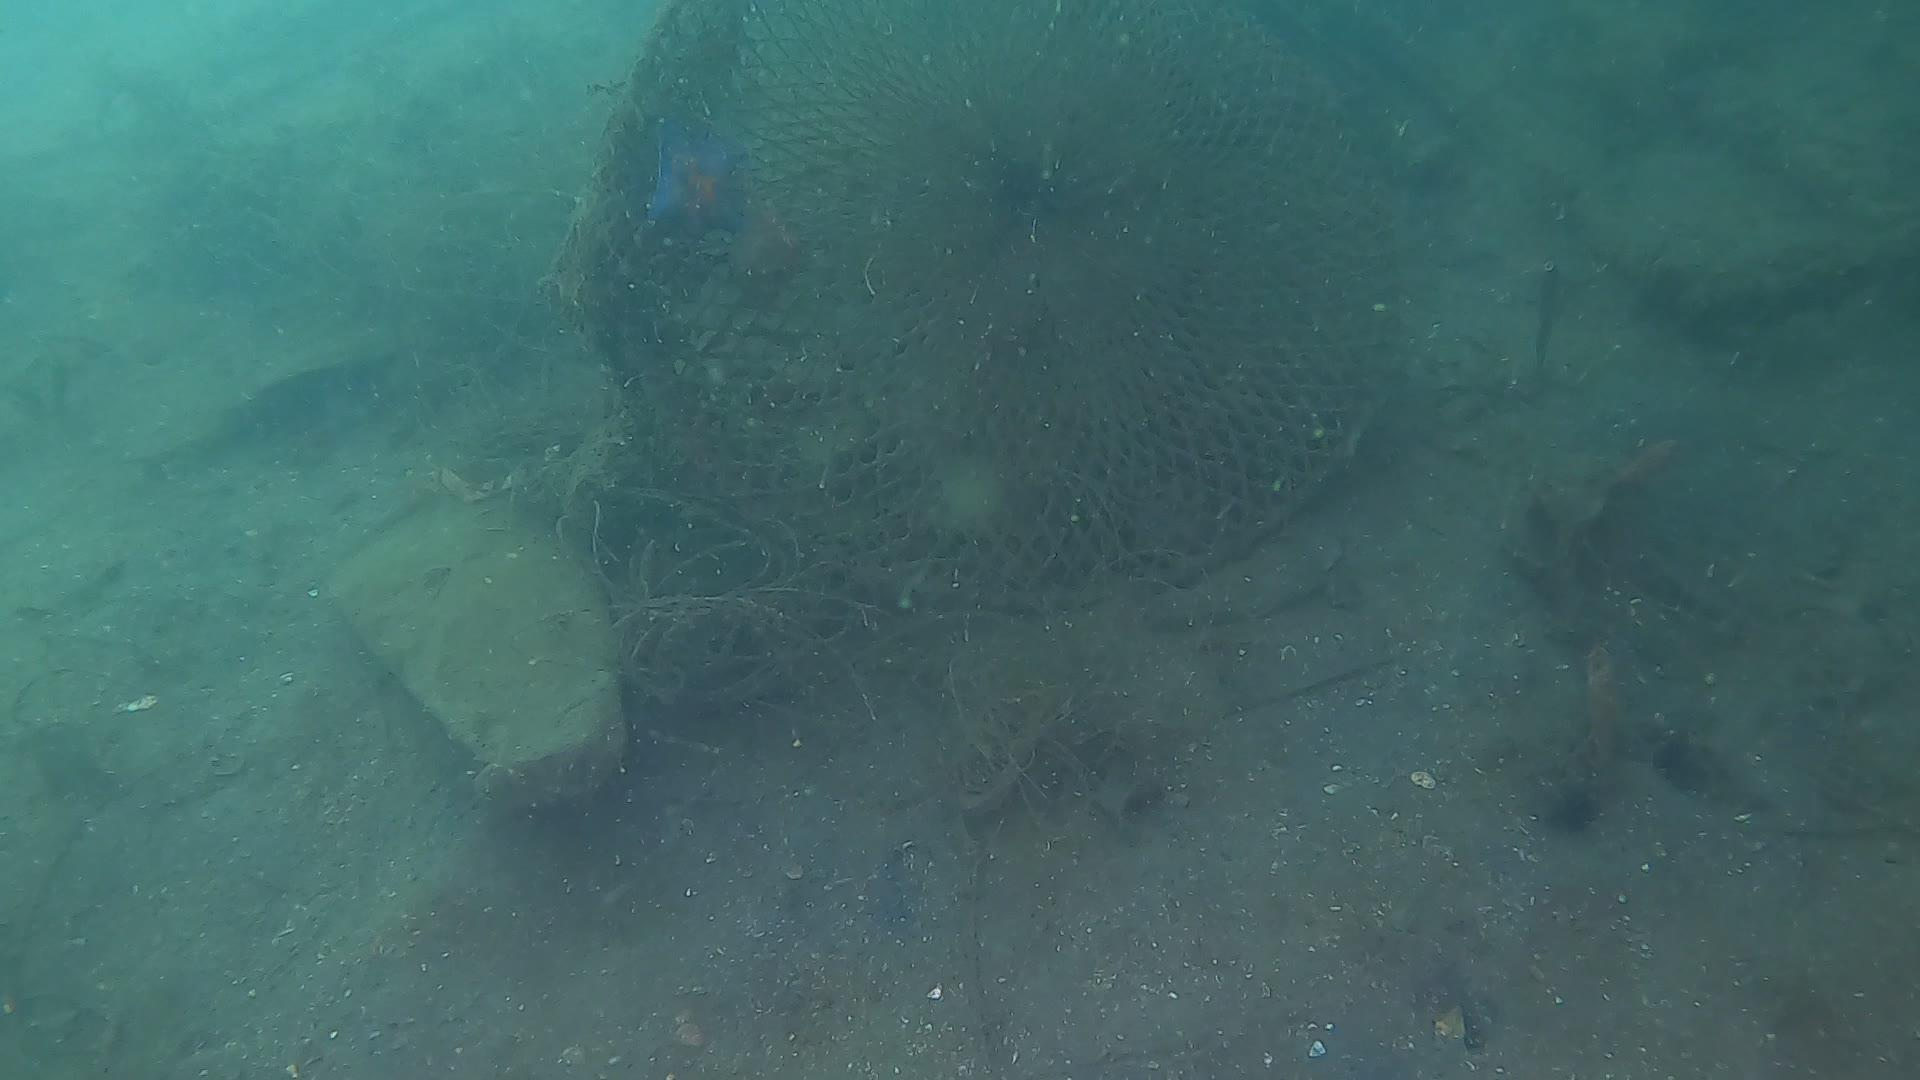circular fish trap: (583, 1, 1416, 611)
